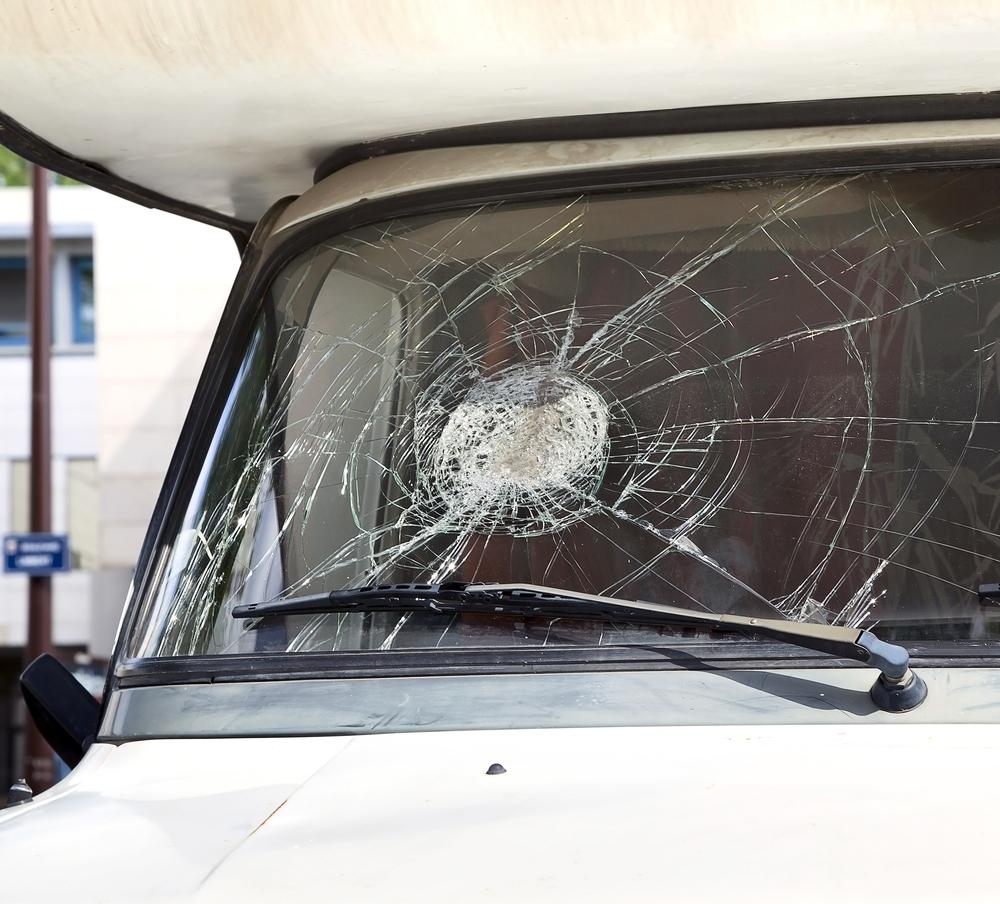glass shatter: (133, 159, 1000, 659)
